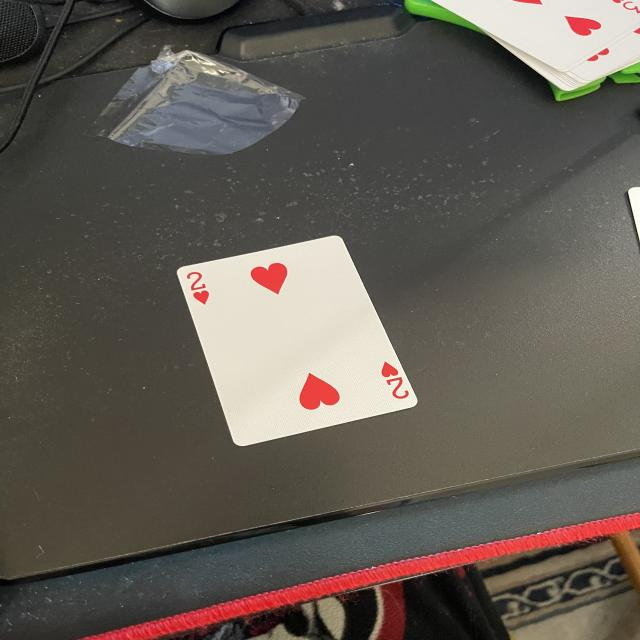2 of hearts: (175, 233, 418, 453)
